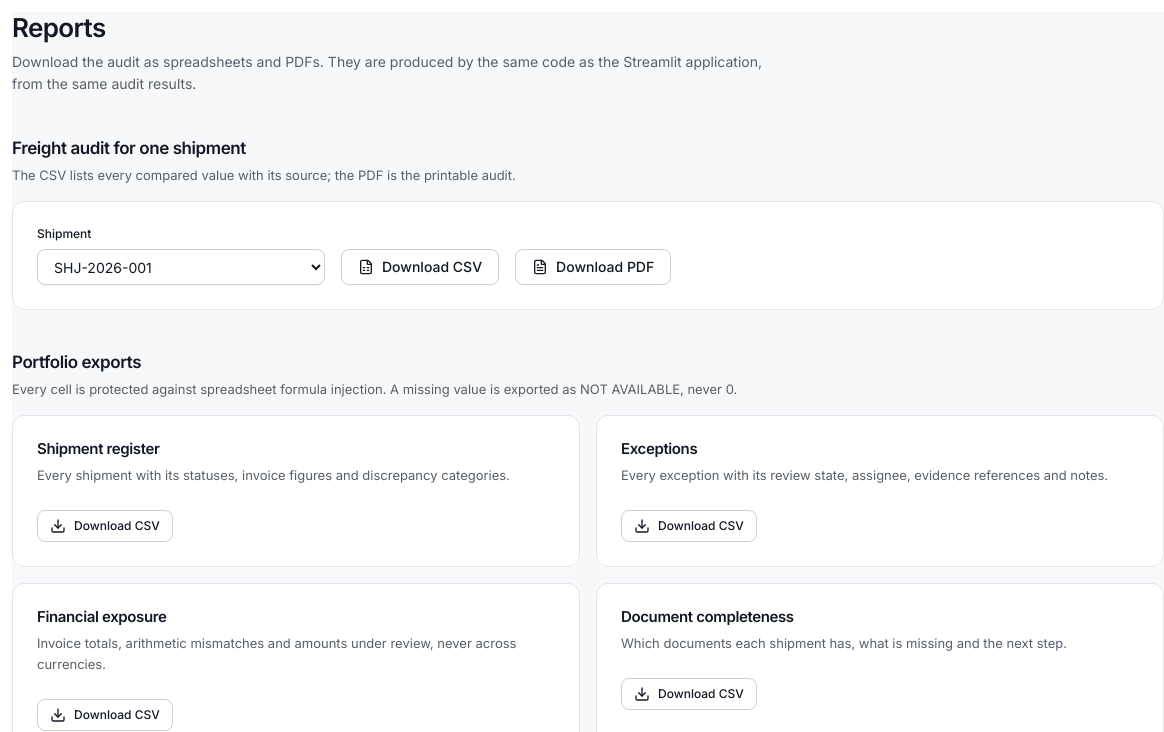
Test: Reports › shows a failed download as an error, not a silent nothing
Click the button "Download CSV" below "Shipment register" at (105, 526), box [37,510,173,542]
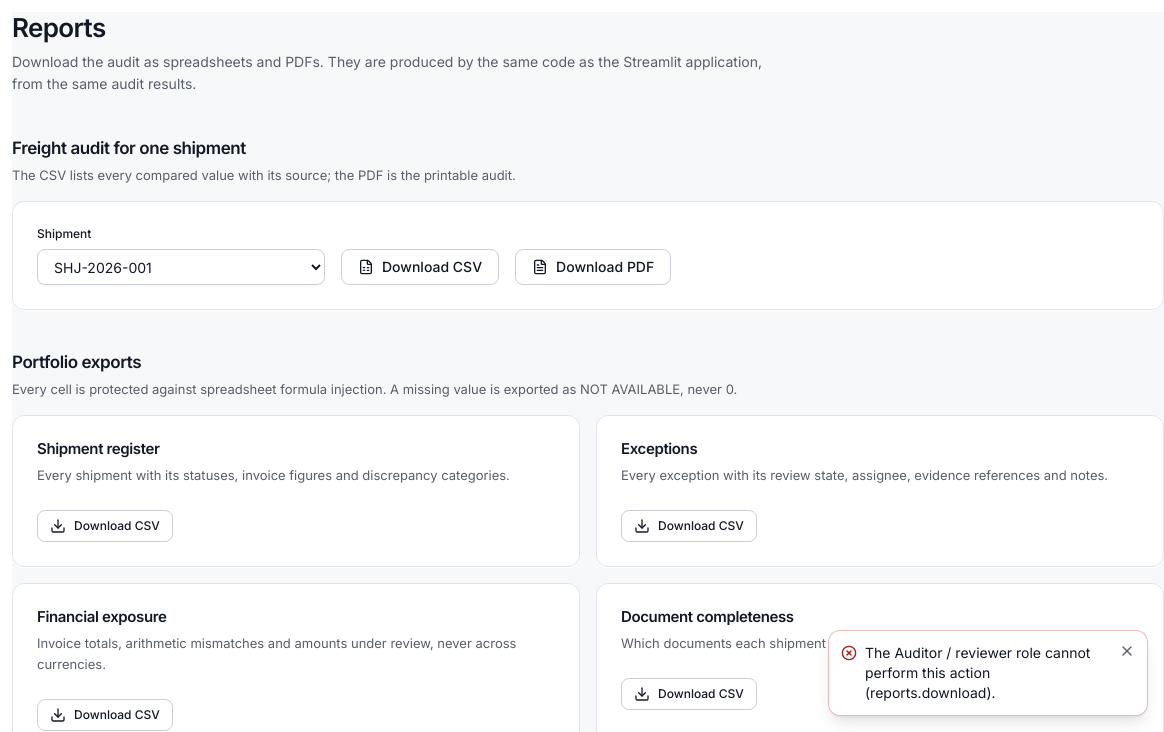
Check: the text "cannot perform this action" is shown, box [865,644,1090,701]
